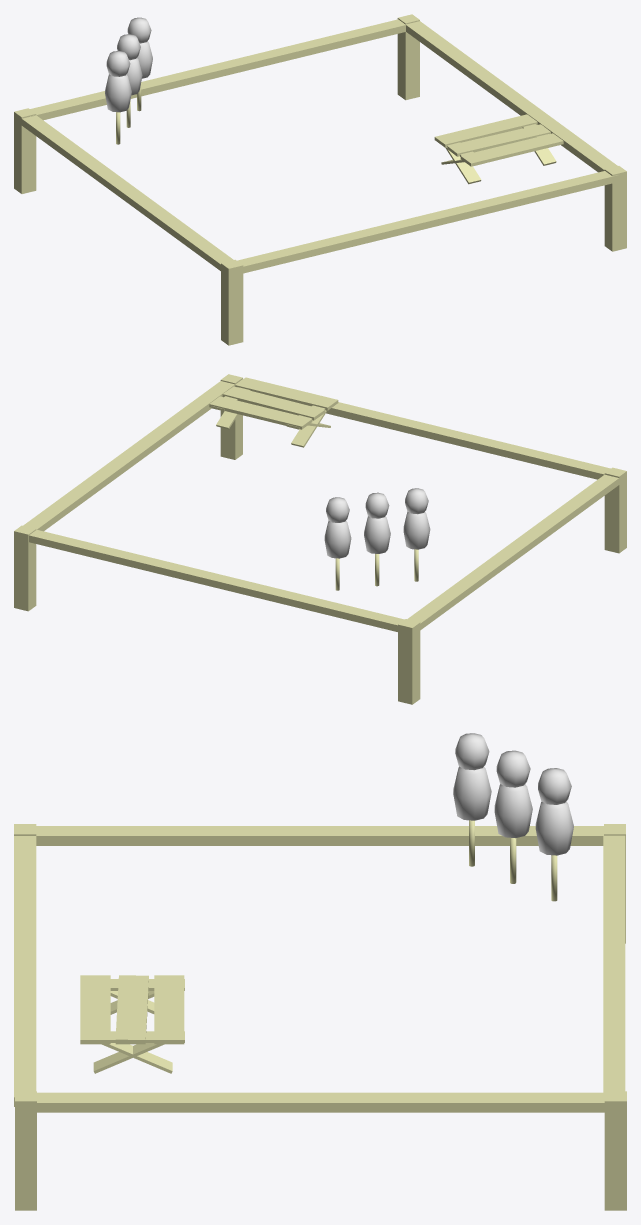
File: raidingCamp.glb
3 renders of one model, top to bottom at view 1: azimuth 30°, elevation 25°; view 2: azimuth 150°, elevation 25°; view 3: azimuth 270°, elevation 25°, orthographic. The views are drawn at different scales.
Parts seen in each view (by area): view 1: Cube.012, Cube.013, Cube.010, Cube.011, Cube.006, Cube.007, Cube.008, Cube.009, Sphere, Cube.003, Cube.001, Cube.002 (+2 smaller); view 2: Cube.013, Cube.010, Cube.012, Cube.011, Cube.008, Cube.009, Cube.006, Sphere.002, Sphere, Sphere.001, Cube.001, Cube.002 (+2 smaller); view 3: Cube.011, Cube.010, Cube.013, Cube.012, Sphere.001, Sphere.002, Sphere, Cube.009, Cube.007, Cube.003, Cube.001, Cube.002 (+2 smaller).
Boxes of the visible parts, x1,y1,x2,y2 form: Cube.012: (237,171,618,273); Cube.013: (30,19,405,120); Cube.010: (21,115,233,270); Cube.011: (406,21,617,172); Cube.006: (221,259,243,345); Cube.007: (604,166,626,251); Cube.008: (14,108,36,193); Cube.009: (397,14,419,100); Sphere: (105,51,131,144); Cube.003: (460,133,563,166); Cube.001: (434,114,537,147); Cube.002: (447,124,550,156); Cube.013: (29,530,404,631); Cube.010: (407,474,619,630); Cube.012: (236,379,610,479); Cube.011: (23,381,235,531); Cube.008: (398,619,420,704); Cube.009: (14,525,36,611); Cube.006: (604,467,626,553); Sphere.002: (324,497,351,590); Sphere: (403,488,430,581); Sphere.001: (364,492,390,586); Cube.001: (209,396,312,429); Cube.002: (222,386,324,420); Cube.011: (30,1092,615,1112); Cube.010: (36,826,603,845); Cube.013: (603,831,625,1092); Cube.012: (14,836,36,1106); Sphere.001: (494,750,532,883); Sphere.002: (535,768,573,901); Sphere: (453,733,491,866); Cube.009: (604,1091,626,1210); Cube.007: (15,1091,36,1210); Cube.003: (80,975,110,1044); Cube.001: (154,975,184,1044); Cube.002: (115,975,148,1044).
Bounding box in the file's own units: 3.18 × 1.25 × 2.98.
